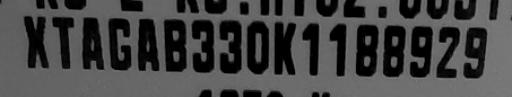letter: (188, 15, 218, 76), (20, 13, 52, 70), (406, 21, 436, 80), (49, 13, 79, 70), (160, 16, 190, 73), (216, 14, 244, 75), (243, 16, 271, 77), (271, 17, 299, 78), (79, 13, 107, 72), (352, 22, 380, 81), (460, 25, 490, 80), (106, 13, 134, 70), (134, 16, 162, 73), (434, 23, 462, 80), (324, 19, 350, 80), (380, 21, 406, 80), (300, 18, 322, 79)
